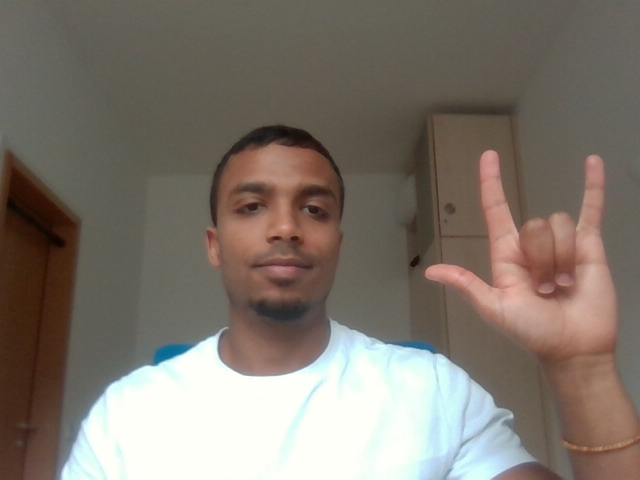absolutely: (407, 129, 634, 366)
